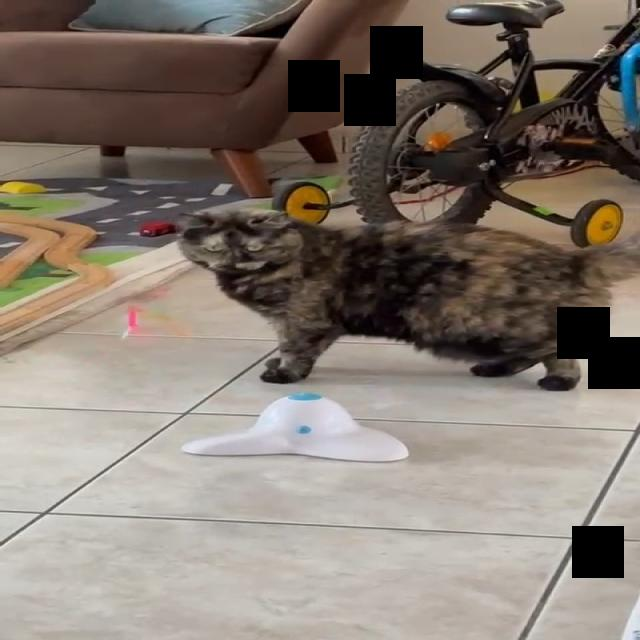authorized: (174, 207, 638, 391)
